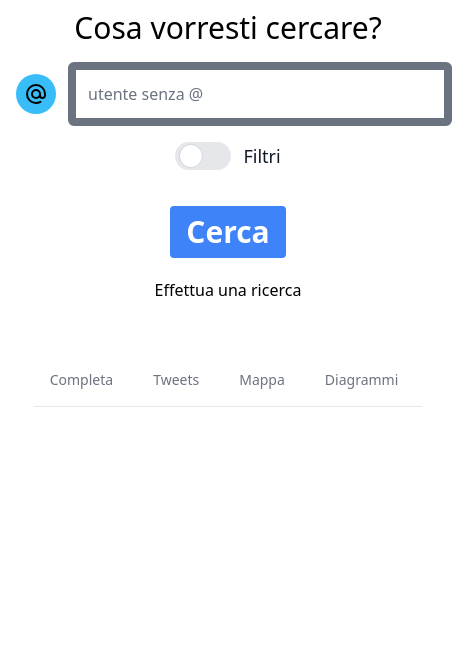
Test case: SearchForm component › shouldn't allow to show a huge number of tweets
Click the checkbox with test id "^filtersToggle$".
click(228, 156)  # box [175,142,281,170]
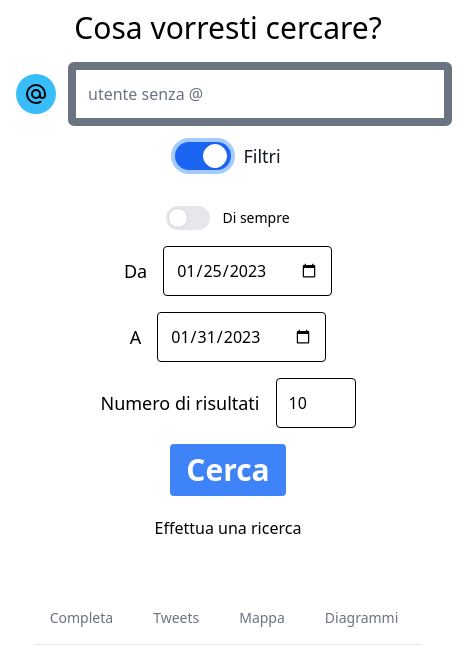
Type "giorgiameloni" into the field with placeholder "utente senza @".
click(260, 94); type("giorgiameloni")  # box [68,62,452,126]
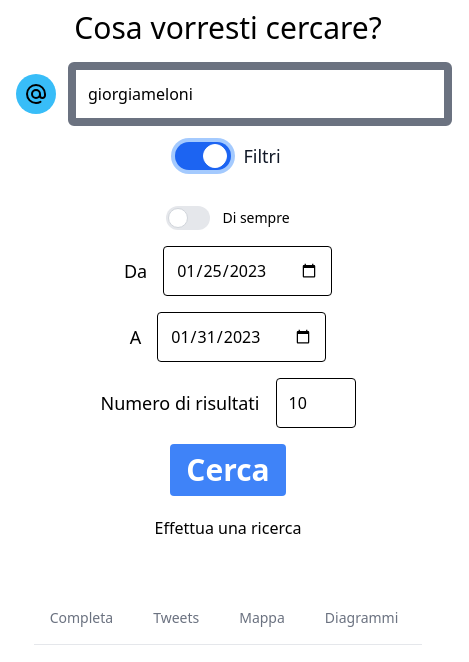
Replace the text in the number field labelled "Numero di risultati" with "101" at (316, 403), box [276,378,356,428]
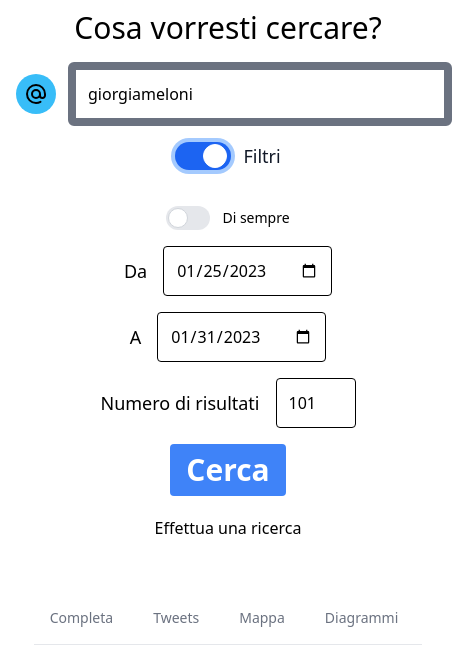
Click the button "Cerca".
click(228, 470)  # box [170,444,286,496]
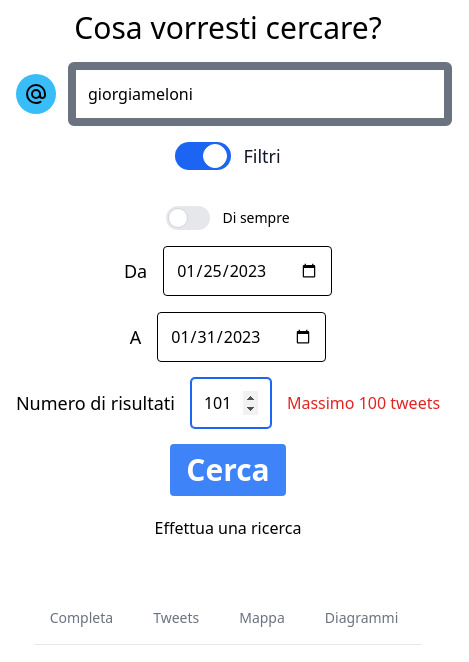
Expected: the text "Massimo 100 tweets" is shown, [287,391,440,415]
